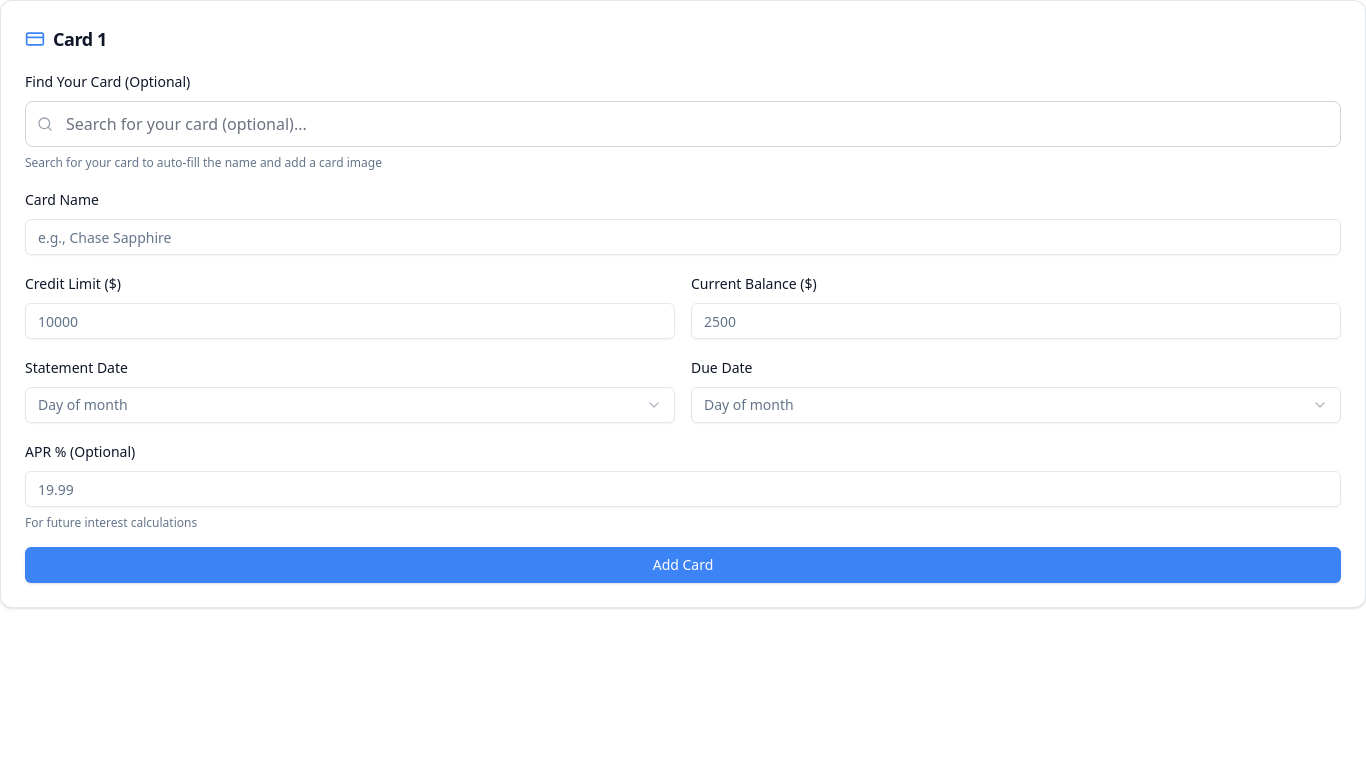
Test: CreditCardForm › Form Validation › should show error when submitting without card name
The image size is (1366, 768).
Click the button "Add Card".
click(683, 565)  # box [25,547,1341,583]
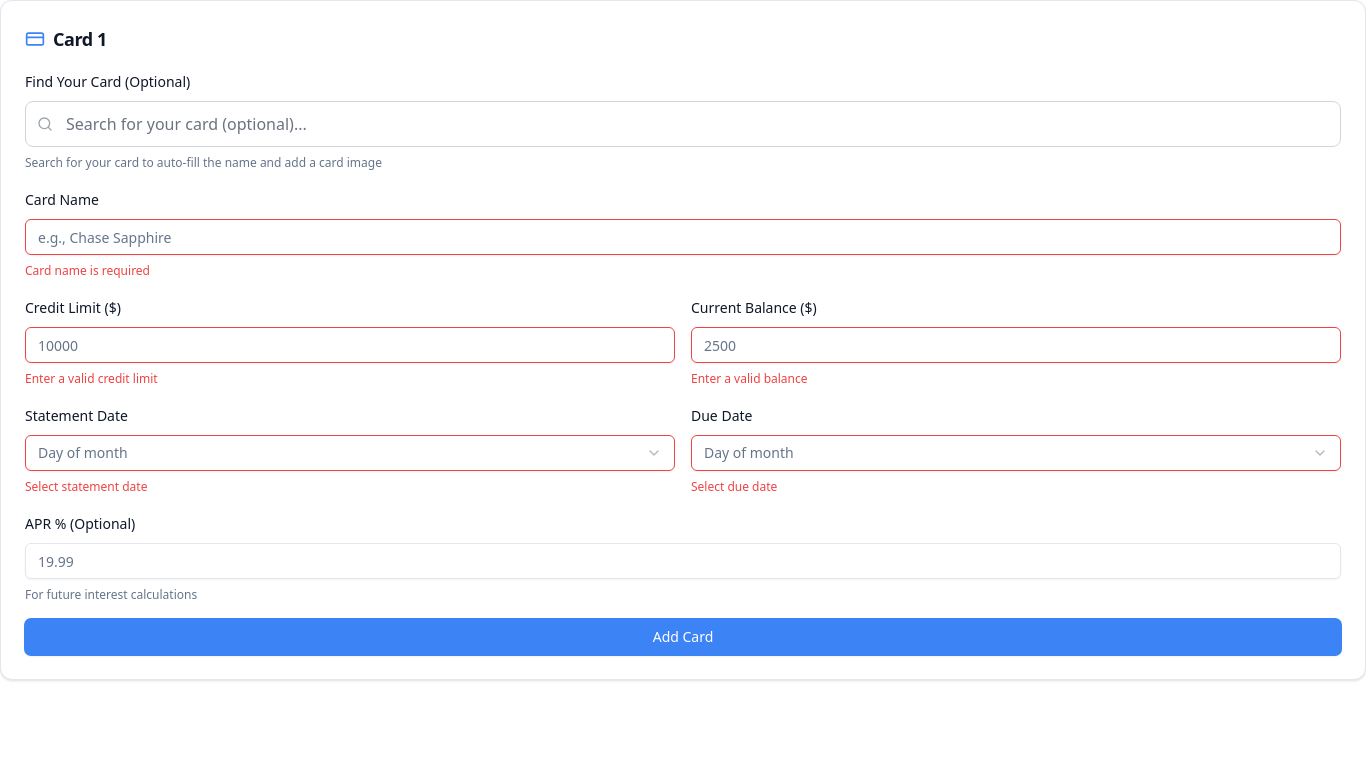
Expected: the text "Card name is required" is shown, [25,262,150,279]
